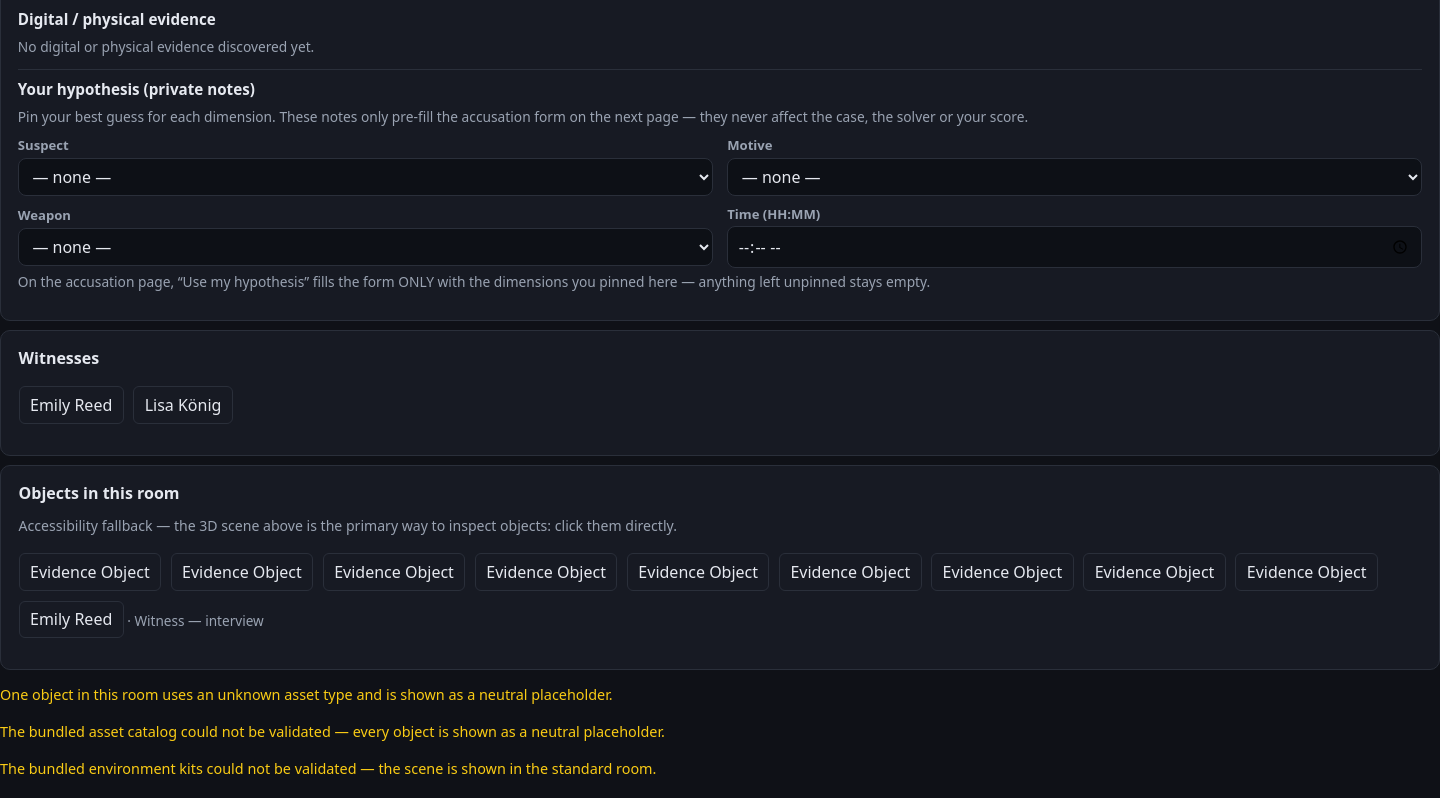
Test: Phase 23 — interview question flow on /scene › switching witnesses while the panel stays mounted RESETS the answer — no stale statement carries over
This screenshot has width=1440, height=798.
(page scrolled)
Click the button "Emily Reed" below "Witnesses": (71,405) [19,386,124,424]
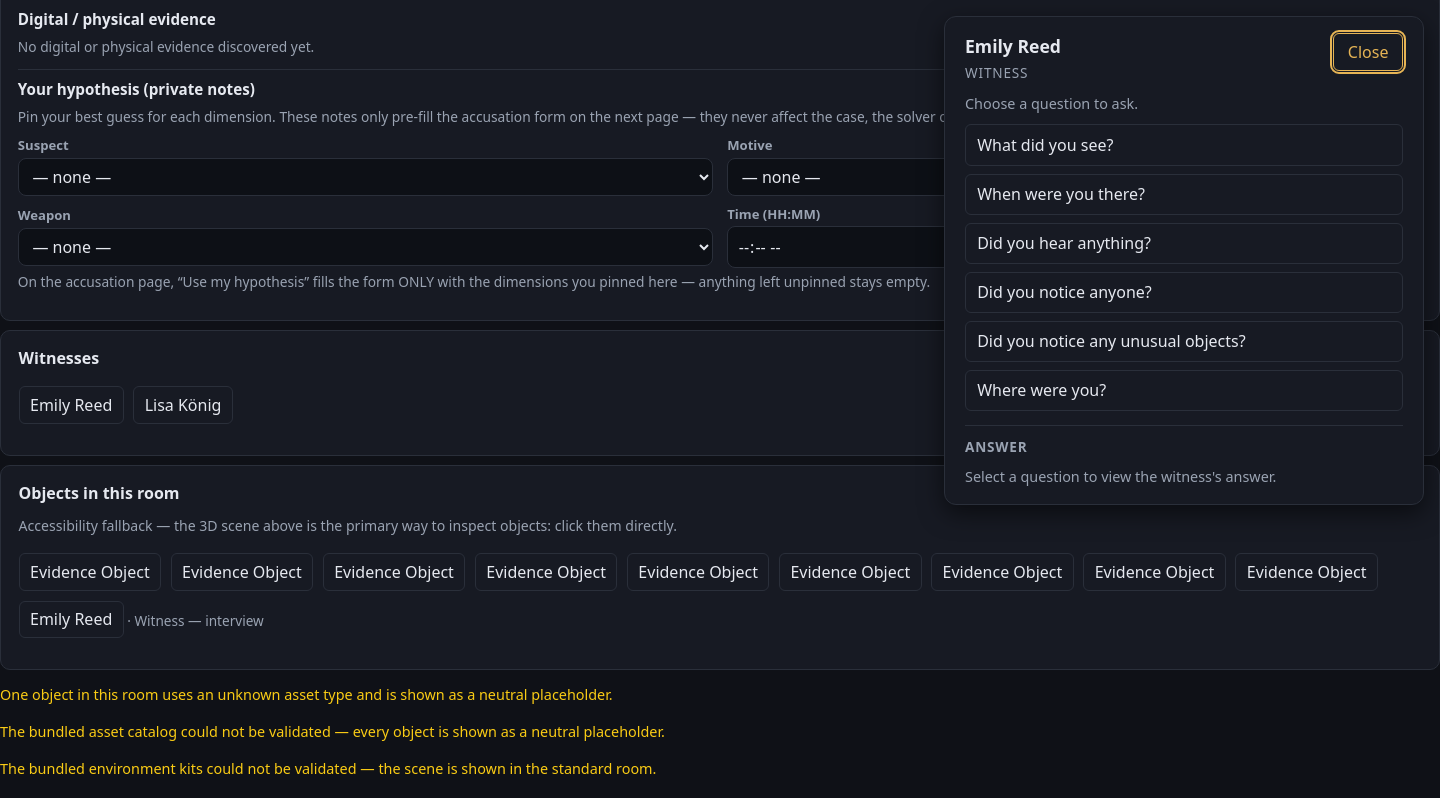
Click the button with test id "witness-question-TIME": (1061,194) [965,174,1403,215]
(page scrolled)
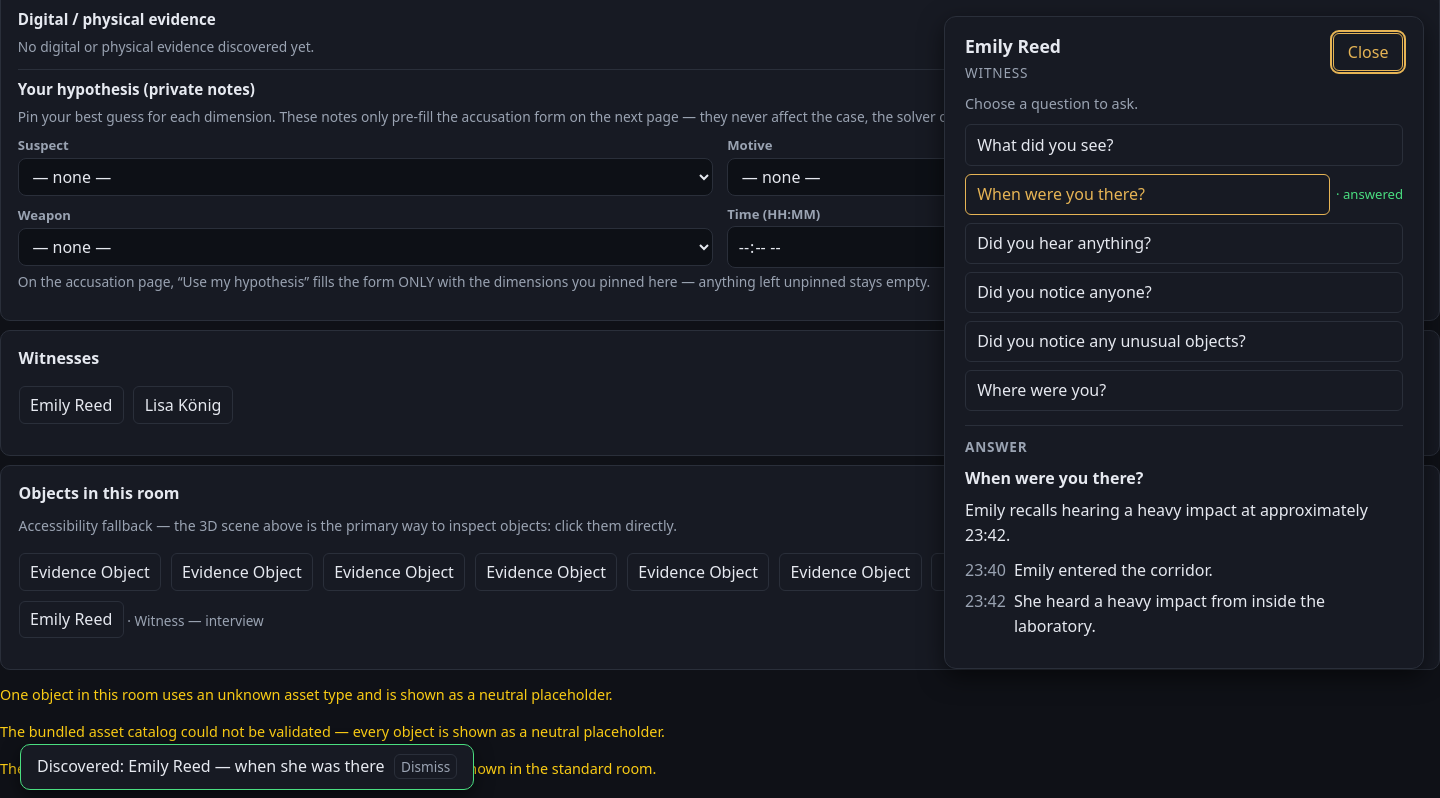
Check: the text with test id "witness-statement-summary" shows "heavy impact", box [965,499,1368,546]
Click the button "Lisa König": (183,405) [133,386,233,424]
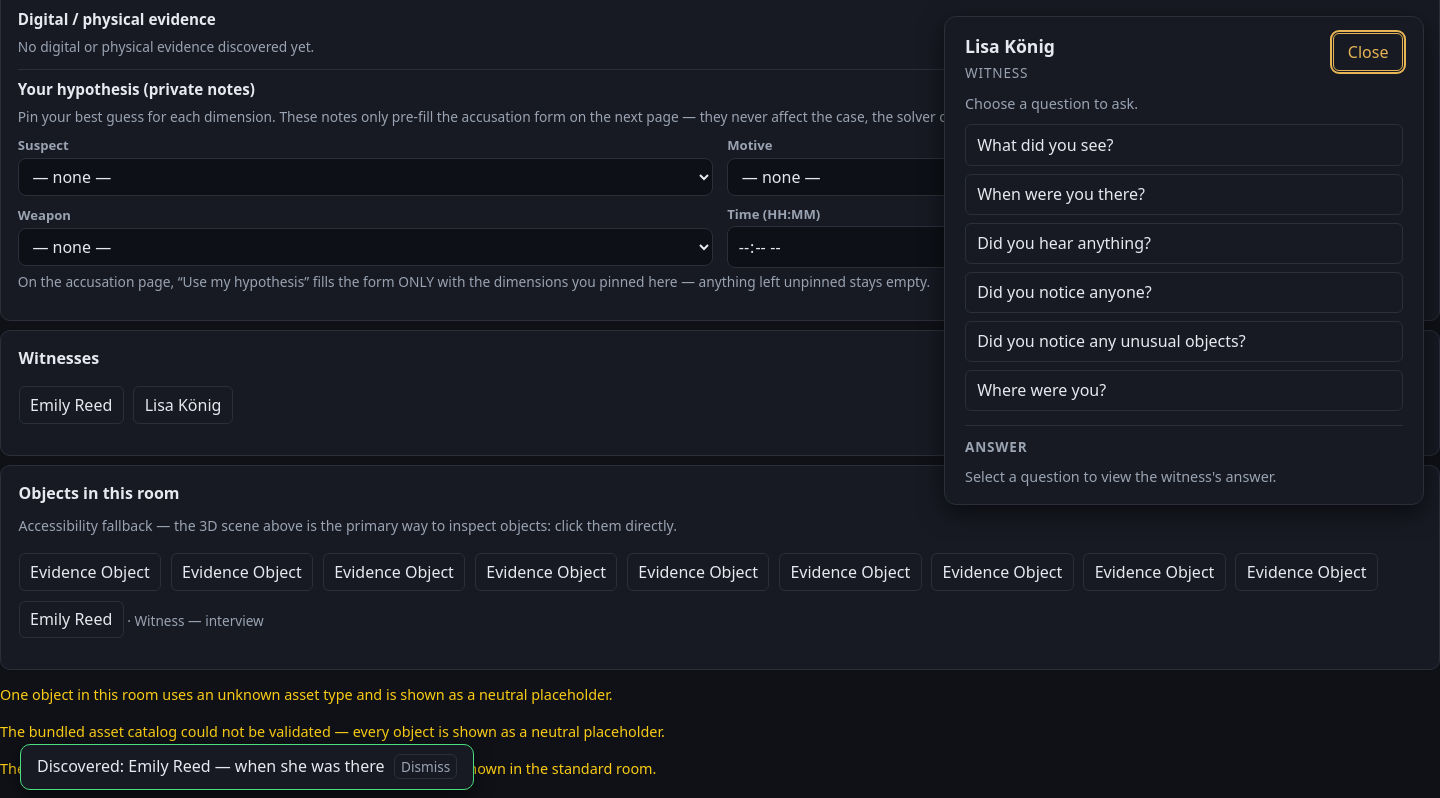
Check: the heading with test id "witness-panel-name" reads "Lisa König", box [965,34,1055,58]
Check: the element with test id "witness-answer" is gone
Check: the text "Select a question to view the witness's answer." is shown, box [965,466,1276,486]
